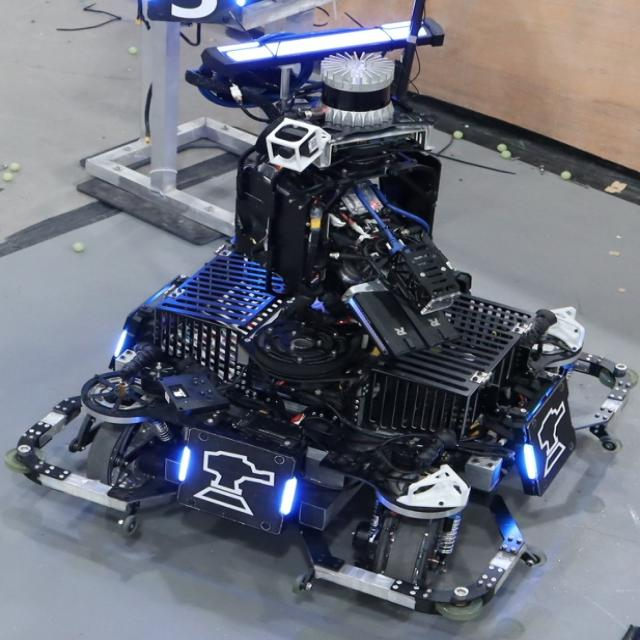Bs: (176, 432, 294, 528), (525, 393, 577, 483)
